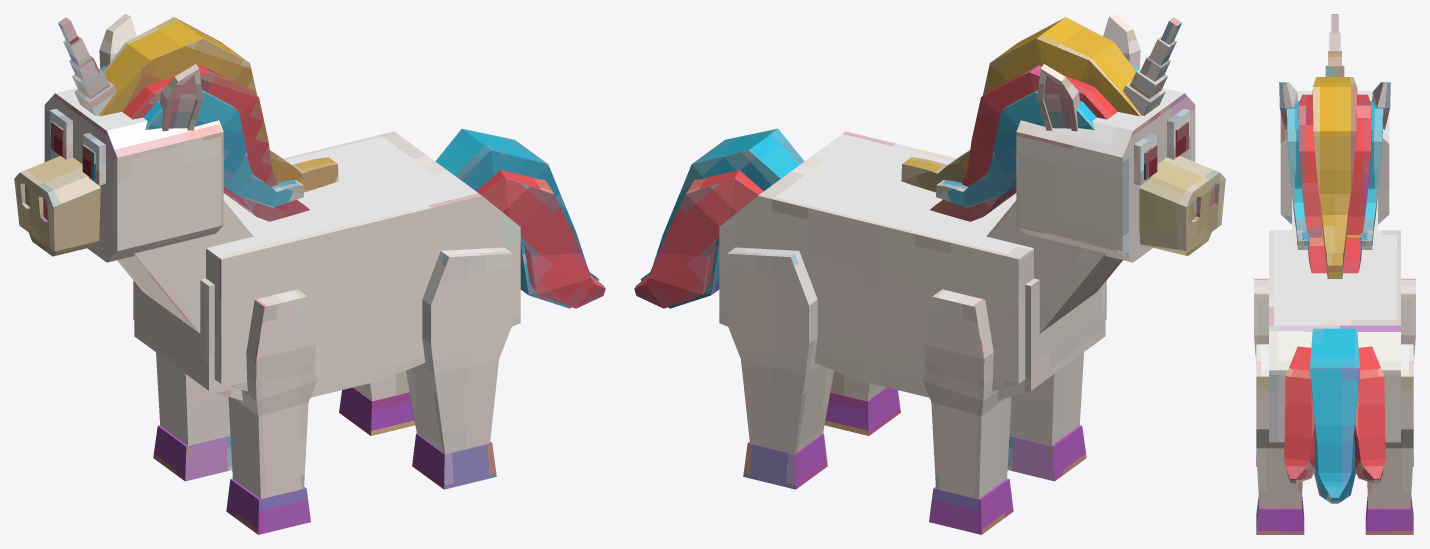
File: animal_unicorn.obj
3 views of the same model, side by side, from view 1: azimuth 30°, elevation 25°; view 2: azimuth 150°, elevation 25°; view 3: azimuth 270°, elevation 25° (orthographic). The views are drawn at different scales.
Parts seen in each view (by area): view 1: animal_unicorn; view 2: animal_unicorn; view 3: animal_unicorn.
Part boxes in pixels (left/top/right/bottom): animal_unicorn: left=14, top=14, right=605, bottom=534; animal_unicorn: left=634, top=14, right=1225, bottom=534; animal_unicorn: left=1254, top=14, right=1415, bottom=534.
Bounding box in the file's own units: 6.8 × 5.9 × 2.26.
Materials: 1 (1 with a texture image).
